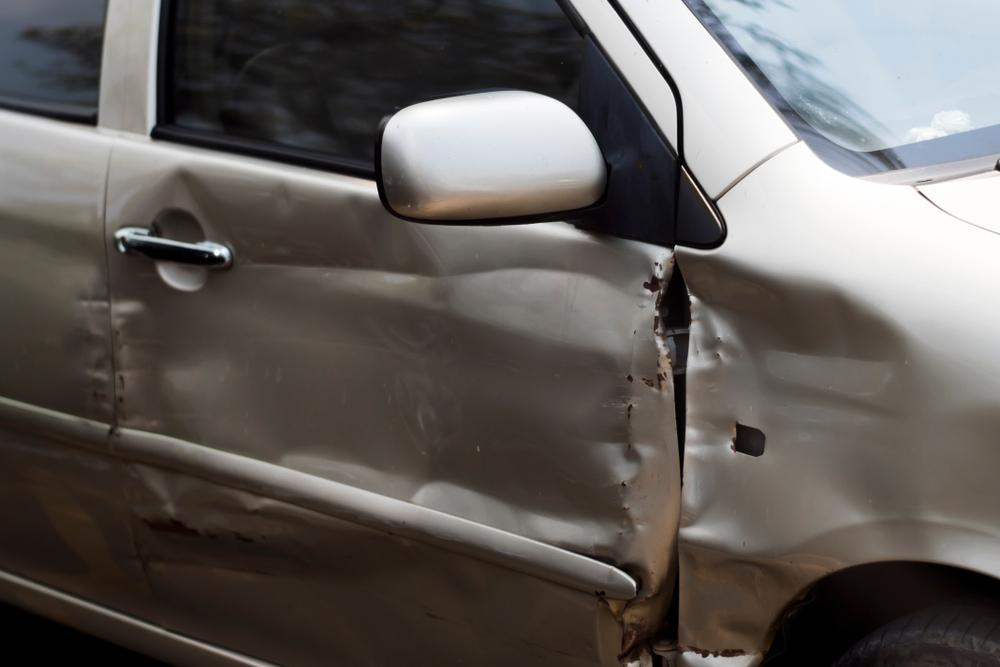dent: (84, 173, 647, 540), (677, 247, 1000, 661), (140, 529, 604, 667)
